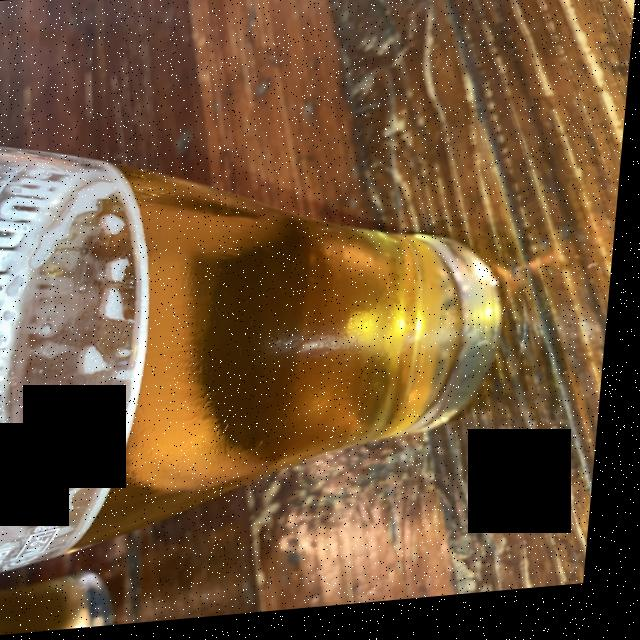beer: (15, 174, 474, 547)
